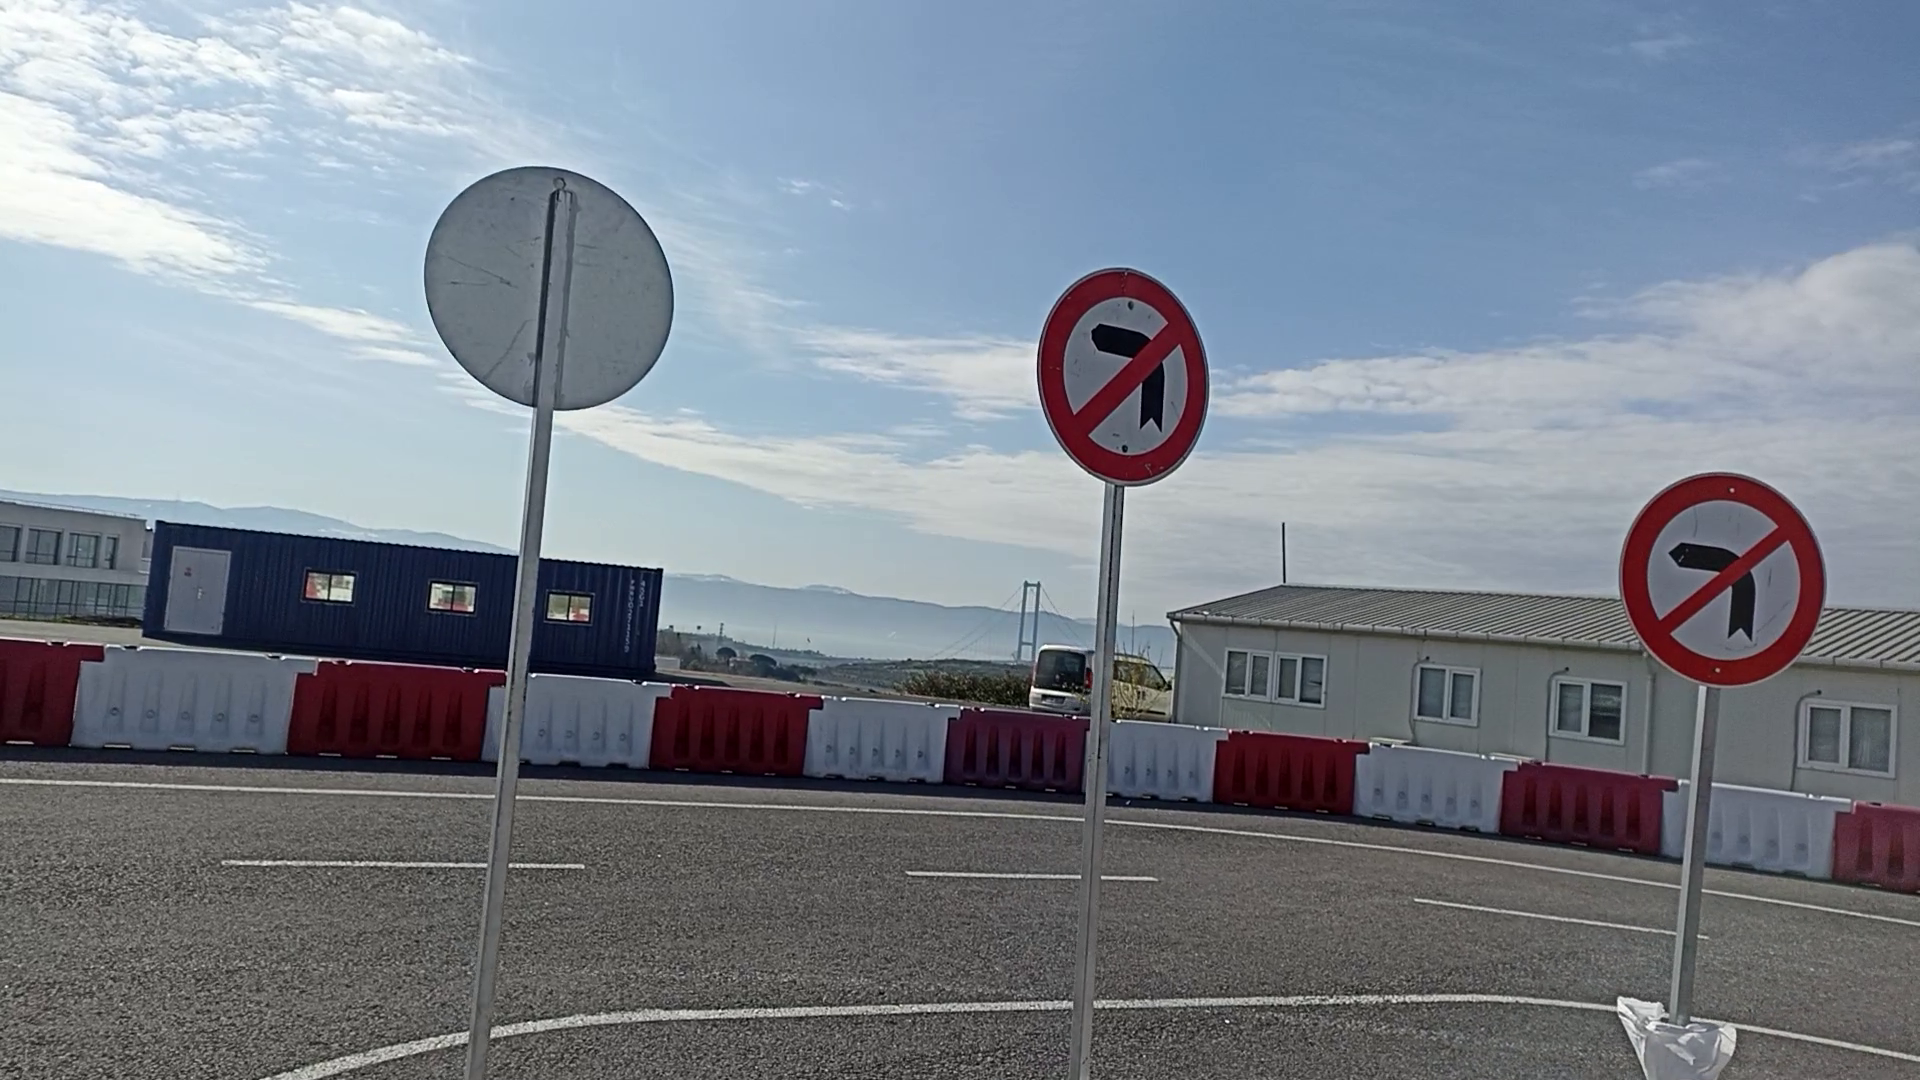noleft: (1613, 469, 1830, 691), (1035, 265, 1213, 488)
